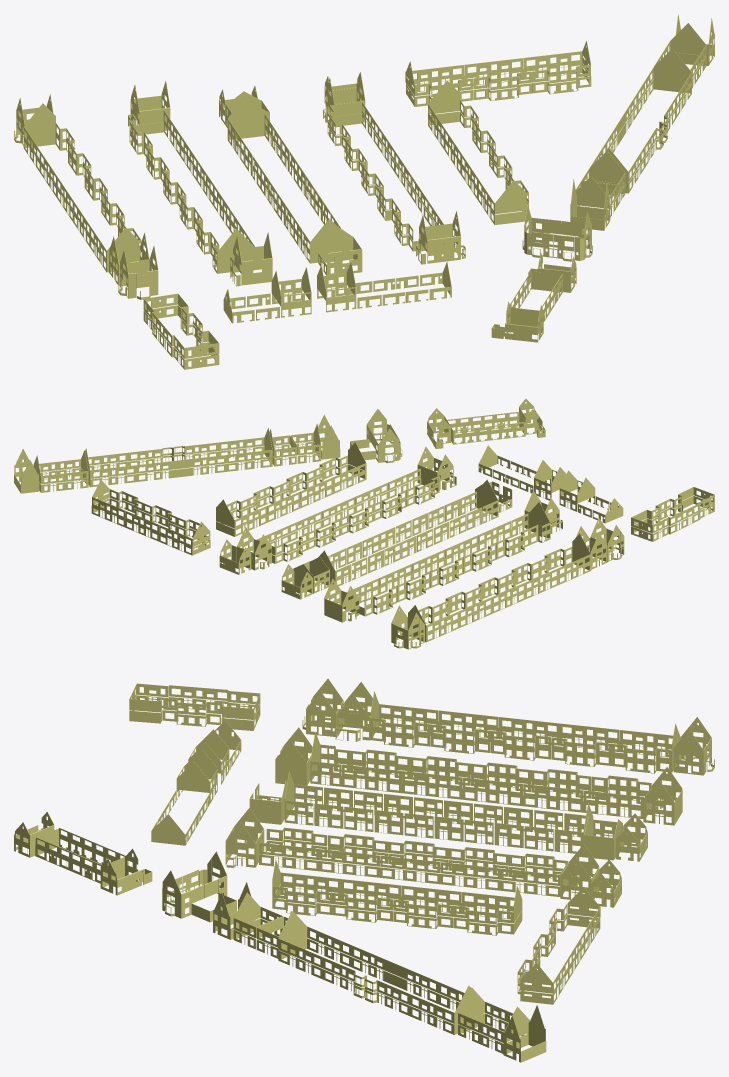
File: pgc_n_pur_istolatie.glb
3 renders of one model, top to bottom at view 1: azimuth 30°, elevation 25°; view 2: azimuth 150°, elevation 25°; view 3: azimuth 270°, elevation 25°, orthographic. The views are drawn at different scales.
Parts seen in each view (by area): view 1: Isolatie; view 2: Isolatie; view 3: Isolatie.
Boxes of the visible parts, bbox=[...] form: Isolatie: bbox=[14, 14, 714, 369]; Isolatie: bbox=[14, 398, 714, 649]; Isolatie: bbox=[14, 678, 714, 1062].
Size of the model in its own units: 214 by 12.41 by 178.
